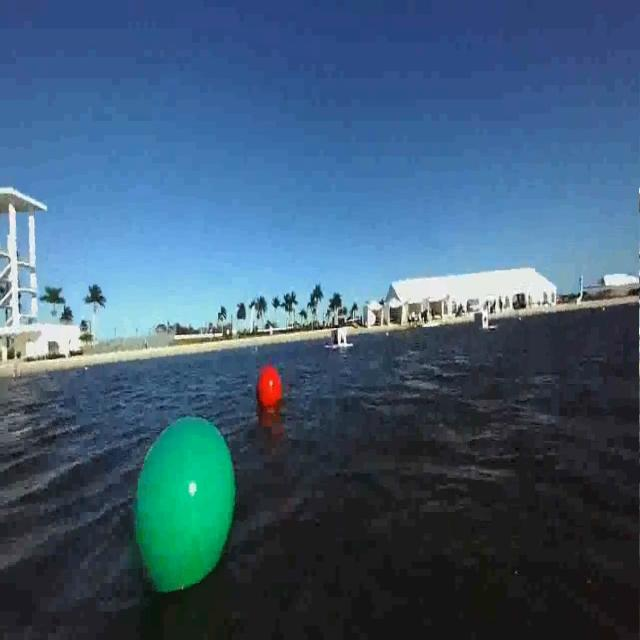green-buoy: (131, 411, 243, 597)
red-buoy: (258, 365, 284, 411)
